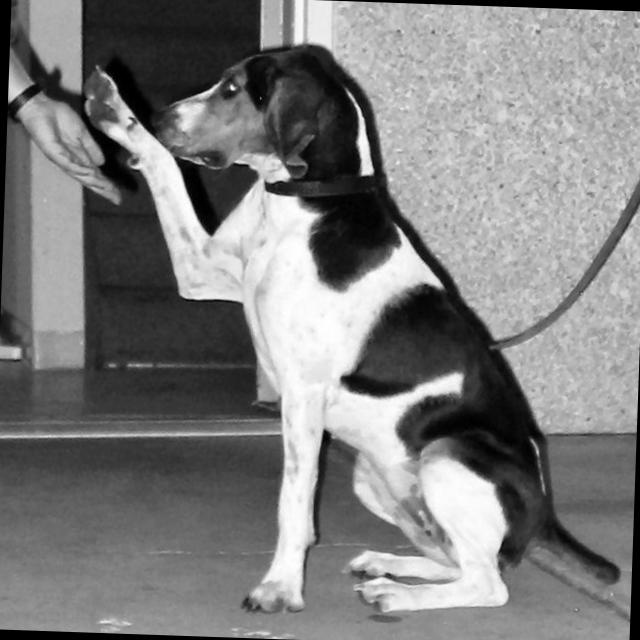sitting: (58, 29, 640, 625)
